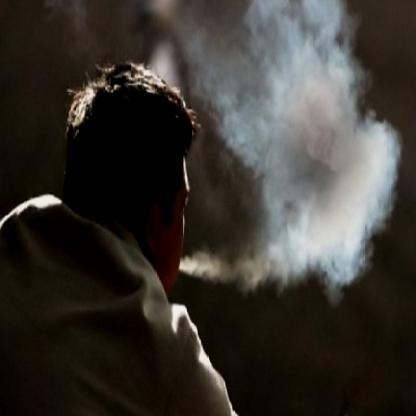smoke: (237, 31, 390, 286)
